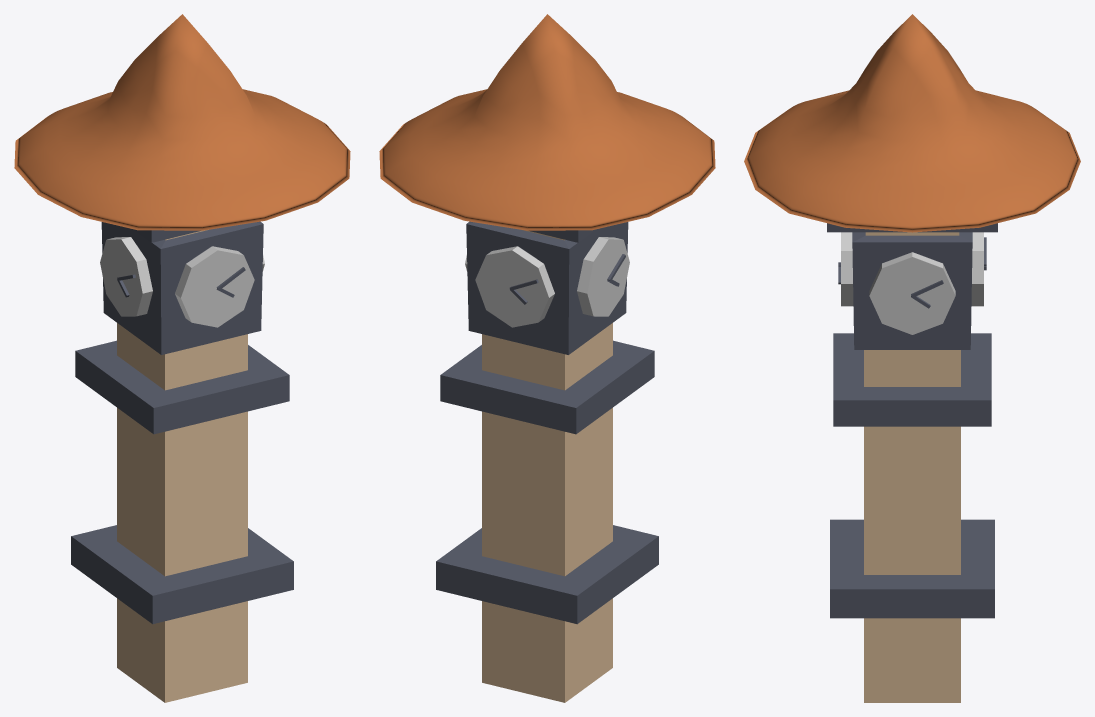
File: ClockTower.fbx
3 views of the same model, side by side, from view 1: azimuth 30°, elevation 25°; view 2: azimuth 150°, elevation 25°; view 3: azimuth 270°, elevation 25° (orthographic).
Parts seen in each view (by area): view 1: pCube93, pPyramid1, pCylinder4, pCylinder10; view 2: pCube93, pPyramid1, pCylinder7, pCylinder10; view 3: pCube93, pPyramid1, pCylinder9, pCylinder4, pCylinder7.
Part boxes in pixels (x1,y1,x2,y2): pCube93: (71,221,293,702); pPyramid1: (14,14,350,230); pCylinder4: (175,246,254,327); pCylinder10: (100,237,152,316); pCube93: (436,221,658,702); pPyramid1: (379,14,715,230); pCylinder7: (475,246,554,327); pCylinder10: (577,237,629,316); pCube93: (827,223,997,702); pPyramid1: (744,14,1080,232); pCylinder9: (869,252,955,334); pCylinder4: (841,232,853,306); pCylinder7: (971,232,983,306).
Bounding box in the file's own units: 28.25 × 61.85 × 28.25.
